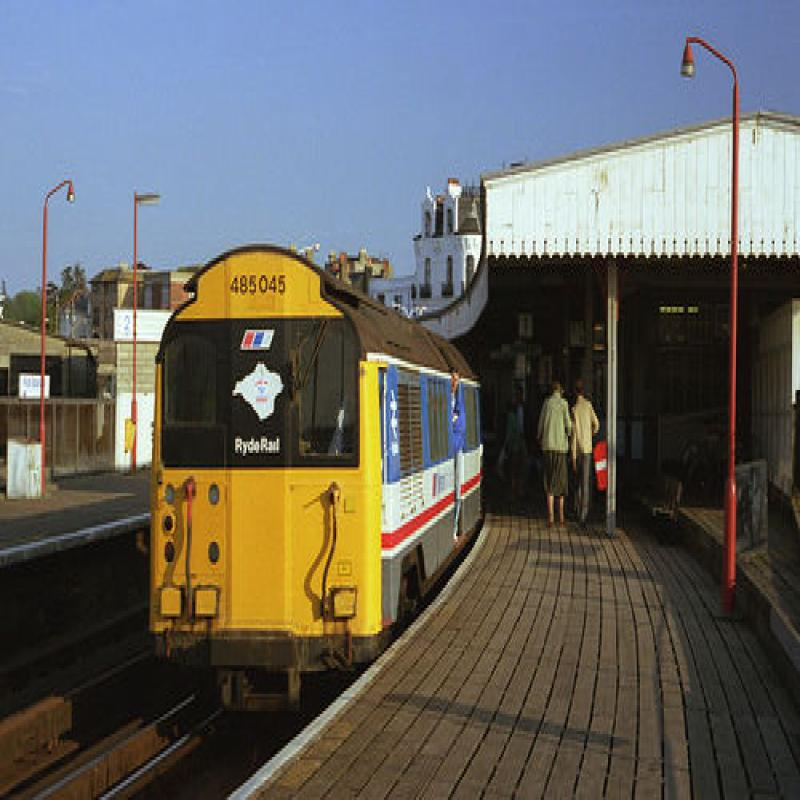train: (150, 242, 486, 718)
